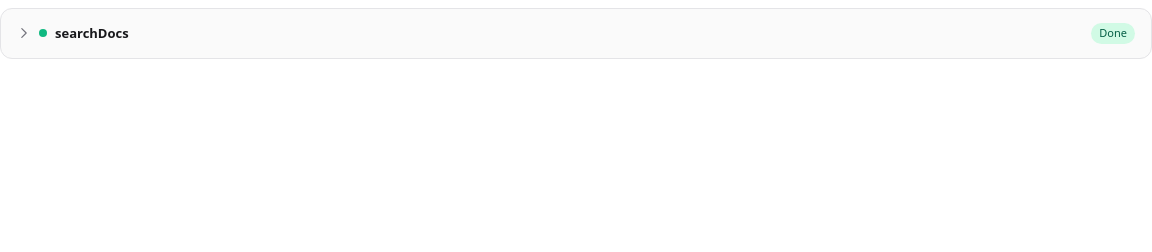
Test: useDefaultRenderTool › default renderer shows done status and result payload
The image size is (1152, 252).
Expected: the text "Done" is shown, left=1091, top=23, right=1135, bottom=44
Click the text "searchDocs" at (92, 33), box left=55, top=24, right=129, bottom=43
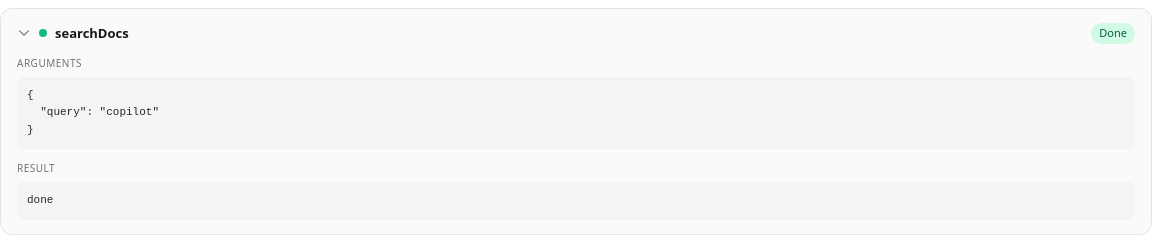
Expected: the text "Result" is shown, left=17, top=161, right=55, bottom=175
Expected: the text "done" is shown, left=17, top=182, right=1135, bottom=220
